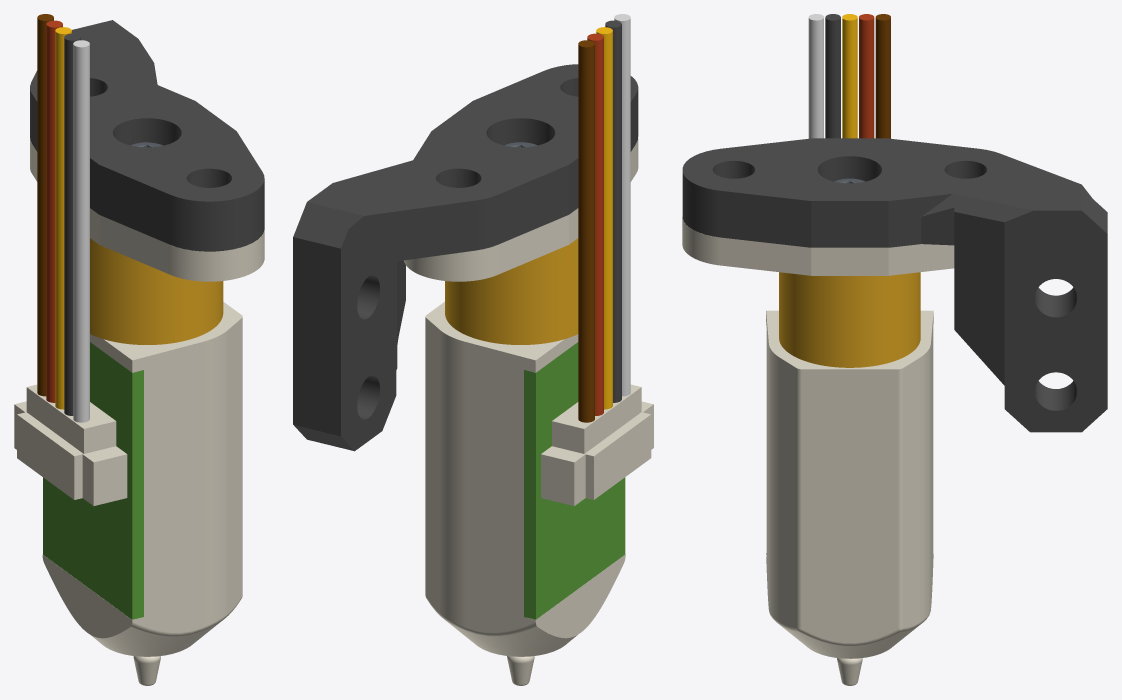
File: BL-Touch.dae
3 renders of one model, left to right at view 1: azimuth 30°, elevation 25°; view 2: azimuth 150°, elevation 25°; view 3: azimuth 270°, elevation 25°, orthographic. The views are drawn at different scales.
Visible parts, largest first — view 1: BL-touch v3.x, bl_touch_mount; view 2: BL-touch v3.x, bl_touch_mount; view 3: BL-touch v3.x, bl_touch_mount.
Part boxes in pixels (x1,y1,x2,y2): BL-touch v3.x: (14, 14, 264, 685); bl_touch_mount: (30, 20, 264, 251); BL-touch v3.x: (404, 14, 653, 685); bl_touch_mount: (293, 64, 638, 451); BL-touch v3.x: (682, 14, 954, 685); bl_touch_mount: (682, 138, 1107, 432).
Size of the model in its own units: 0.016 by 0.033 by 0.0538.
